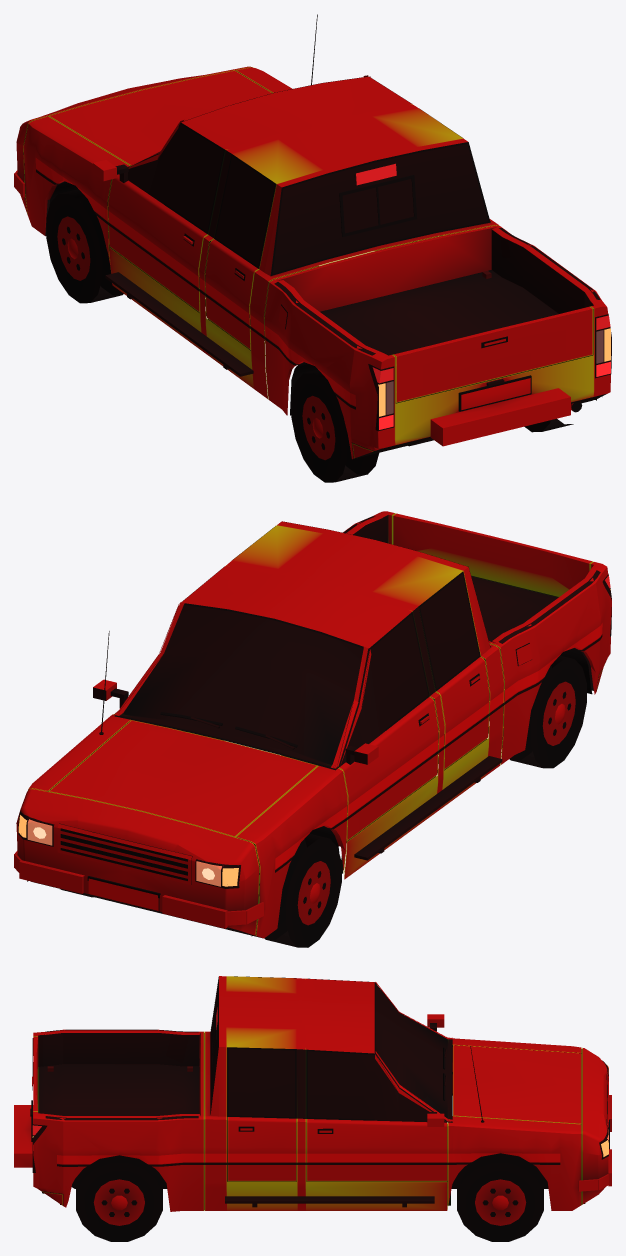
File: body.glb
3 renders of one model, top to bottom at view 1: azimuth 30°, elevation 25°; view 2: azimuth 150°, elevation 25°; view 3: azimuth 270°, elevation 25°, orthographic. The views are drawn at different scales.
Visible parts, largest first — view 1: bed, body, glass_backlight, tailgate, hood, door_l, fender_fl, wheel_fl_mesh, glass_door_l, wheel_rl_mesh, step_bumper, glass_door_rl (+10 smaller); view 2: body, glass_windshield, hood, bed, bumper_f, fender_fl, tailgate, door_l, glass_door_l, wheel_fl_mesh, wheel_rl_mesh, glass_door_rl (+13 smaller); view 3: bed, body, hood, door_r, fender_fr, wheel_fr_mesh, wheel_rr_mesh, glass_door_r, glass_windshield, door_rr, glass_door_rr, bumper_f (+12 smaller).
Boxes of the visible parts, x1,y1,x2,y2 form: bed: (264,225,610,459); body: (109,76,499,398); glass_backlight: (271,142,488,273); tailgate: (393,306,592,402); hood: (49,70,272,165); door_l: (108,174,207,312); fender_fl: (23,116,130,269); wheel_fl_mesh: (46,189,123,303); glass_door_l: (128,123,225,234); wheel_rl_mesh: (291,370,379,482); step_bumper: (430,388,570,446); glass_door_rl: (215,156,276,268); body: (181,521,504,879); glass_windshield: (115,605,367,767); hood: (49,720,317,837); bed: (343,511,611,764); bumper_f: (16,788,259,936); fender_fl: (236,765,347,938); tailgate: (393,513,592,597); door_l: (339,696,438,840); glass_door_l: (337,612,428,767); wheel_fl_mesh: (257,833,341,947); wheel_rl_mesh: (502,655,586,768); glass_door_rl: (418,574,479,690); bed: (33,1029,204,1211); body: (204,976,447,1210); hood: (453,1045,581,1124); door_r: (306,1119,447,1181); fender_fr: (447,1116,581,1210); wheel_fr_mesh: (457,1153,543,1241); wheel_rr_mesh: (76,1155,162,1241); glass_door_r: (308,1049,446,1122); glass_windshield: (374,982,451,1122); door_rr: (227,1117,296,1181); glass_door_rr: (229,1047,296,1117); bumper_f: (581,1048,608,1204).
Size of the model in its own units: 2.06 by 1.75 by 4.99.
